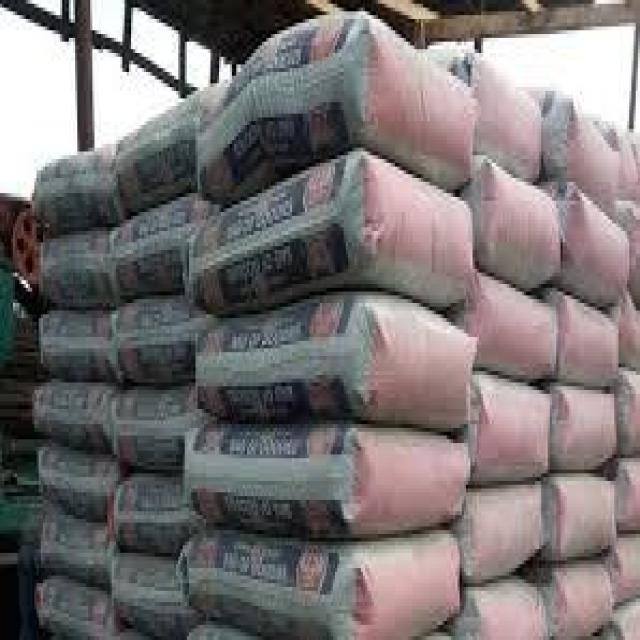gunny_bag: (194, 13, 470, 203), (184, 145, 475, 317), (194, 285, 478, 437), (185, 420, 473, 540), (175, 527, 462, 640), (469, 154, 563, 296), (463, 267, 561, 385), (111, 89, 196, 224), (113, 189, 205, 303), (467, 368, 553, 489), (542, 87, 619, 218), (456, 481, 546, 587), (558, 179, 630, 310), (474, 51, 544, 184), (29, 143, 124, 238), (111, 293, 202, 387), (108, 382, 197, 472), (111, 549, 203, 636), (112, 474, 199, 559), (447, 570, 551, 640), (545, 467, 618, 564), (34, 227, 121, 308), (34, 439, 123, 518), (532, 558, 615, 640), (30, 507, 112, 590), (555, 293, 618, 392), (30, 380, 113, 455), (550, 384, 619, 472), (37, 309, 120, 382), (30, 574, 114, 640), (605, 531, 640, 608), (609, 452, 639, 534), (615, 364, 640, 459), (614, 285, 640, 372), (601, 590, 640, 640)
